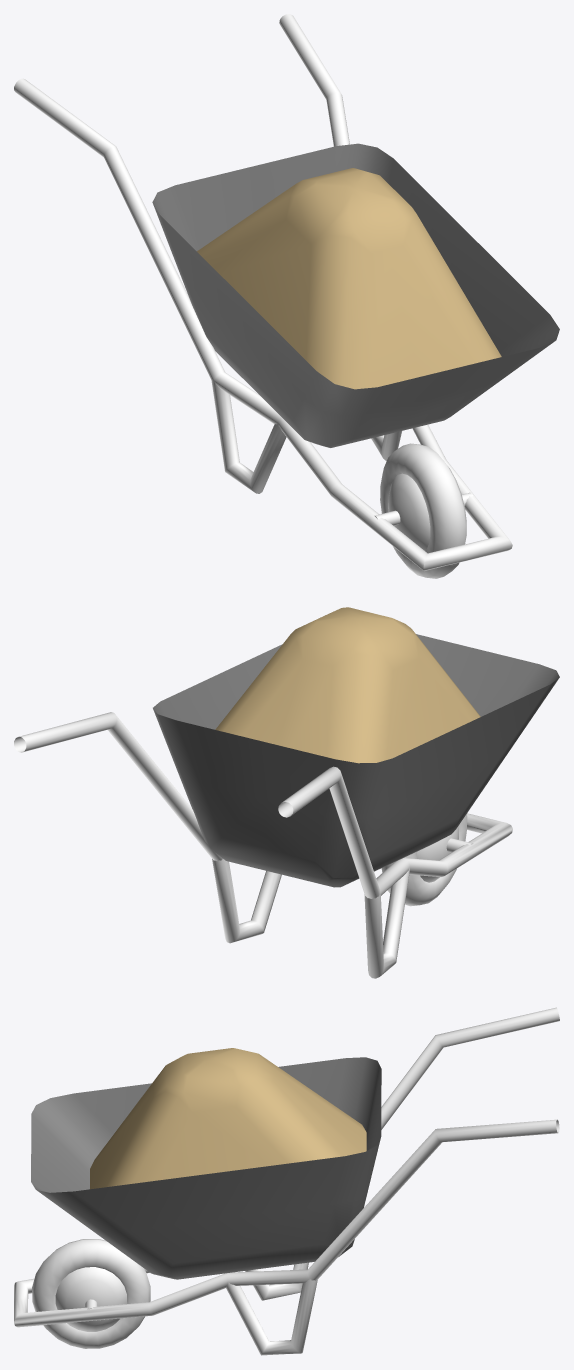
Rendered from WheelBarrel.fbx.
3 renders of one model, top to bottom at view 1: azimuth 30°, elevation 25°; view 2: azimuth 150°, elevation 25°; view 3: azimuth 270°, elevation 25°, orthographic. The views are drawn at different scales.
Parts seen in each view (by area): view 1: WheelBarrel; view 2: WheelBarrel; view 3: WheelBarrel.
Boxes of the visible parts, bbox=[...] form: WheelBarrel: bbox=[14, 14, 559, 578]; WheelBarrel: bbox=[14, 607, 559, 978]; WheelBarrel: bbox=[14, 1007, 559, 1355].
Bounding box in the file's own units: 54.16 × 62.1 × 106.
